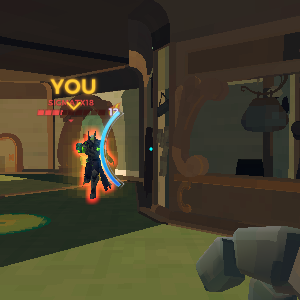model: (76, 128, 115, 203)
